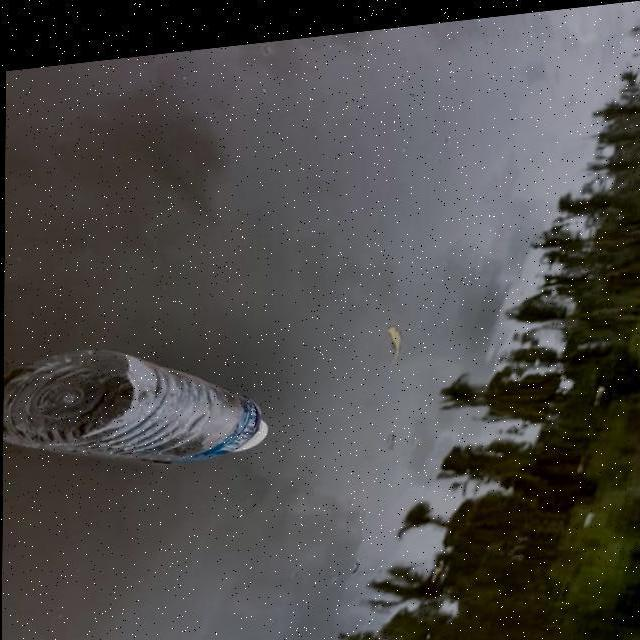Bottle: (0, 338, 280, 476)
